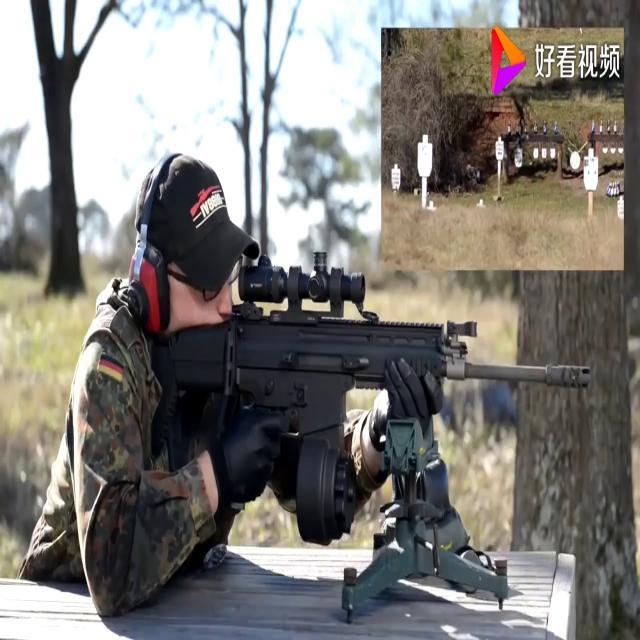gun-knife-thesis - v11 Yolov5 augmented: (151, 269, 598, 603)
